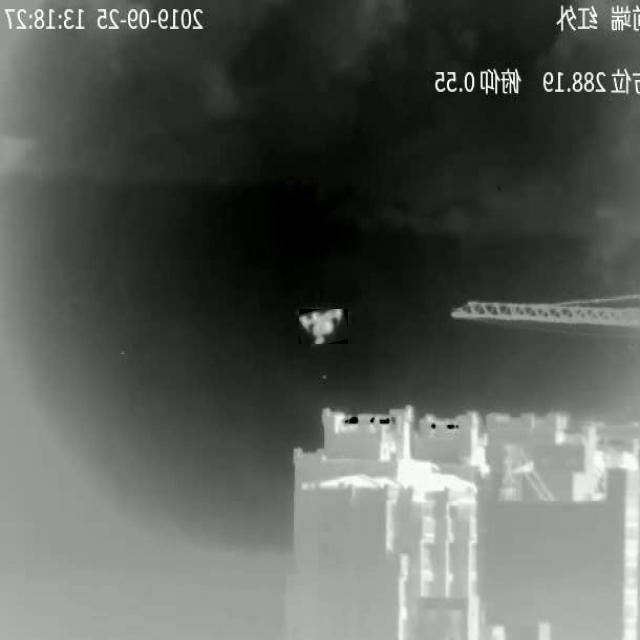drone: (299, 309, 343, 344)
